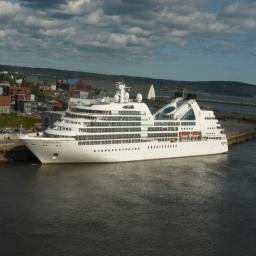cruises: (19, 80, 230, 168)
